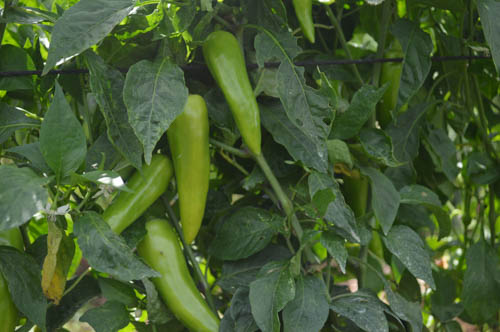ChiliPepper: (139, 220, 216, 330), (205, 31, 266, 154), (167, 94, 211, 244), (96, 155, 172, 234), (376, 54, 398, 123)
